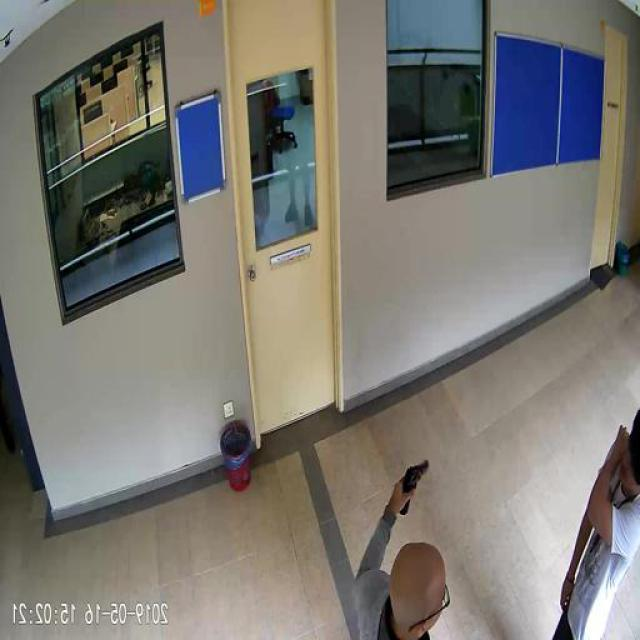Gun: (400, 456, 431, 514)
